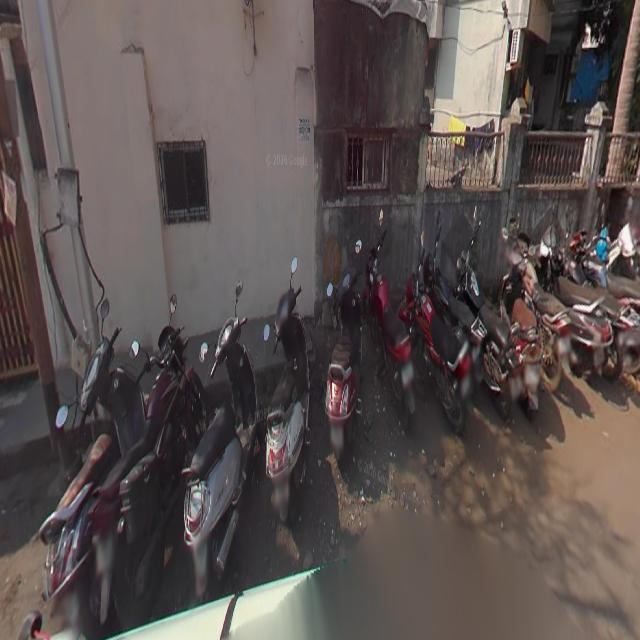illegalparking: (31, 127, 638, 590)
